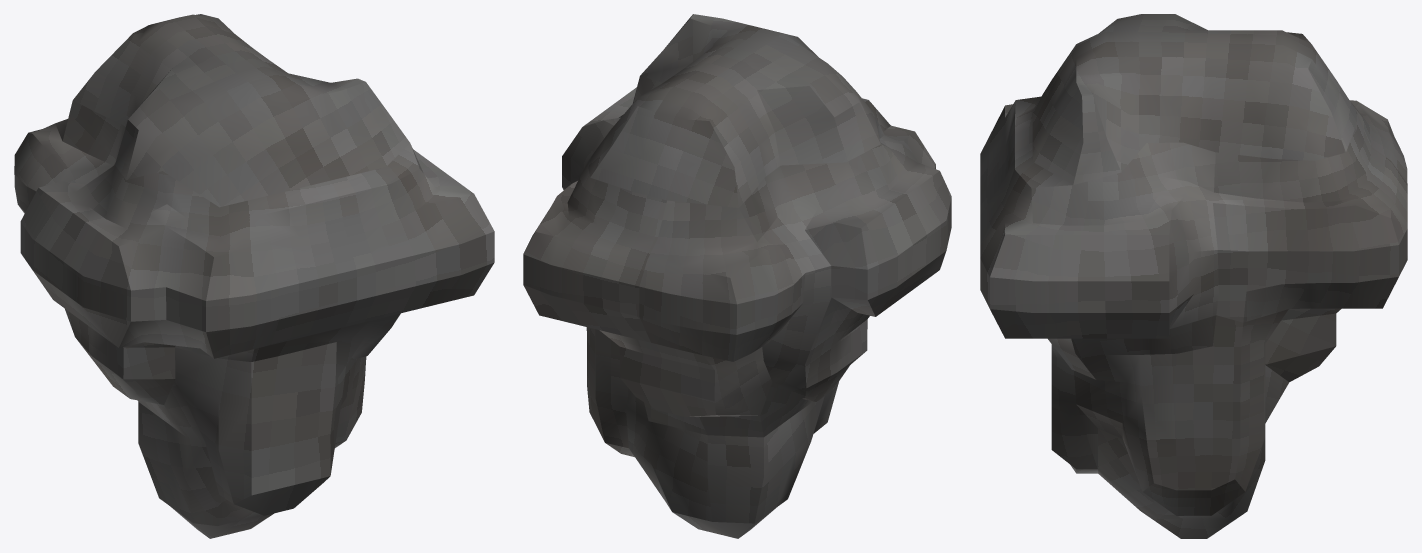
The model's file is boulder1.fbx.
The picture shows the model from 3 angles, left to right: view 1: azimuth 30°, elevation 25°; view 2: azimuth 150°, elevation 25°; view 3: azimuth 270°, elevation 25°; orthographic projection. The views are drawn at different scales.
Parts seen in each view (by area): view 1: boulder1; view 2: boulder1; view 3: boulder1.
Part boxes in pixels (box(x1,y1,x2,y2)): boulder1: box(14, 14, 494, 538); boulder1: box(523, 14, 951, 538); boulder1: box(980, 14, 1407, 538).
Bounding box in the file's own units: 6 × 7.59 × 6.
